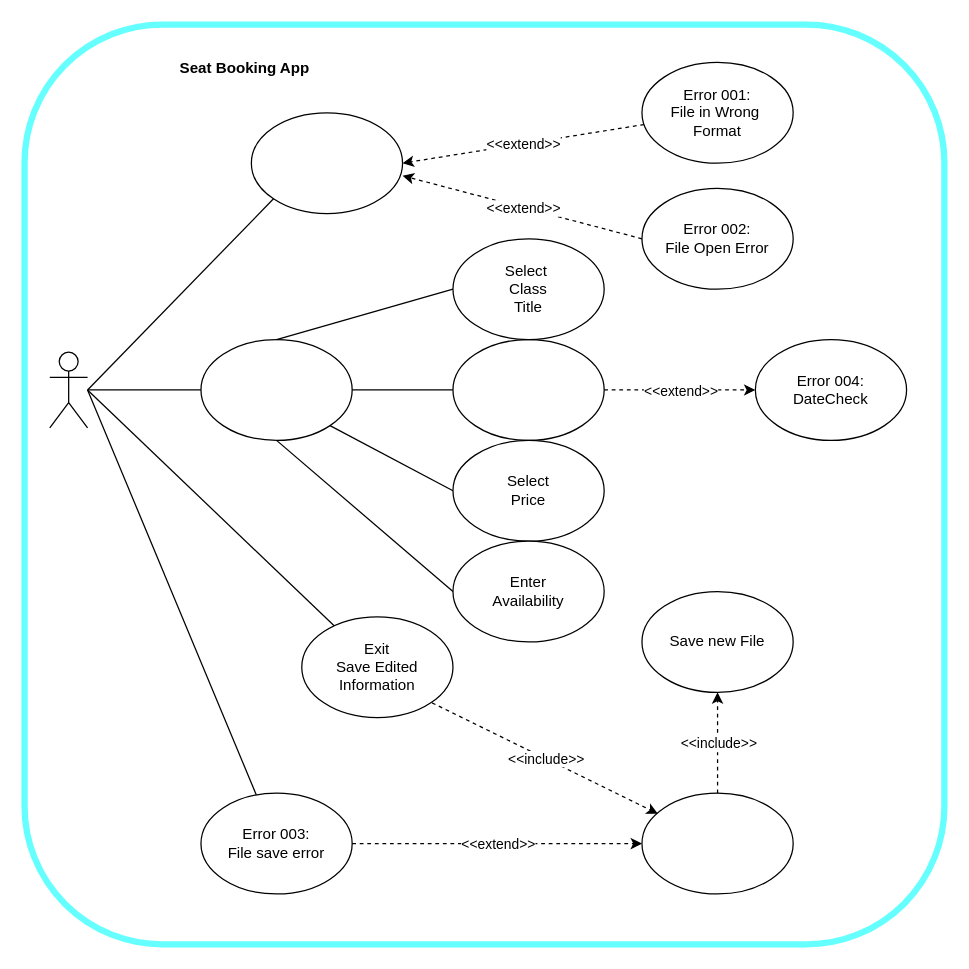
This 969x969 diagram has some shape labels left out. Here are the shapes that lost their labels. From the top down, the centre of each, then its label:
At point (326, 163): "Open a File".
At point (68, 389): "Admin".
At point (276, 389): "View and edit Class information".
At point (528, 389): "Select Date".
At point (717, 843): "Verify Information".
